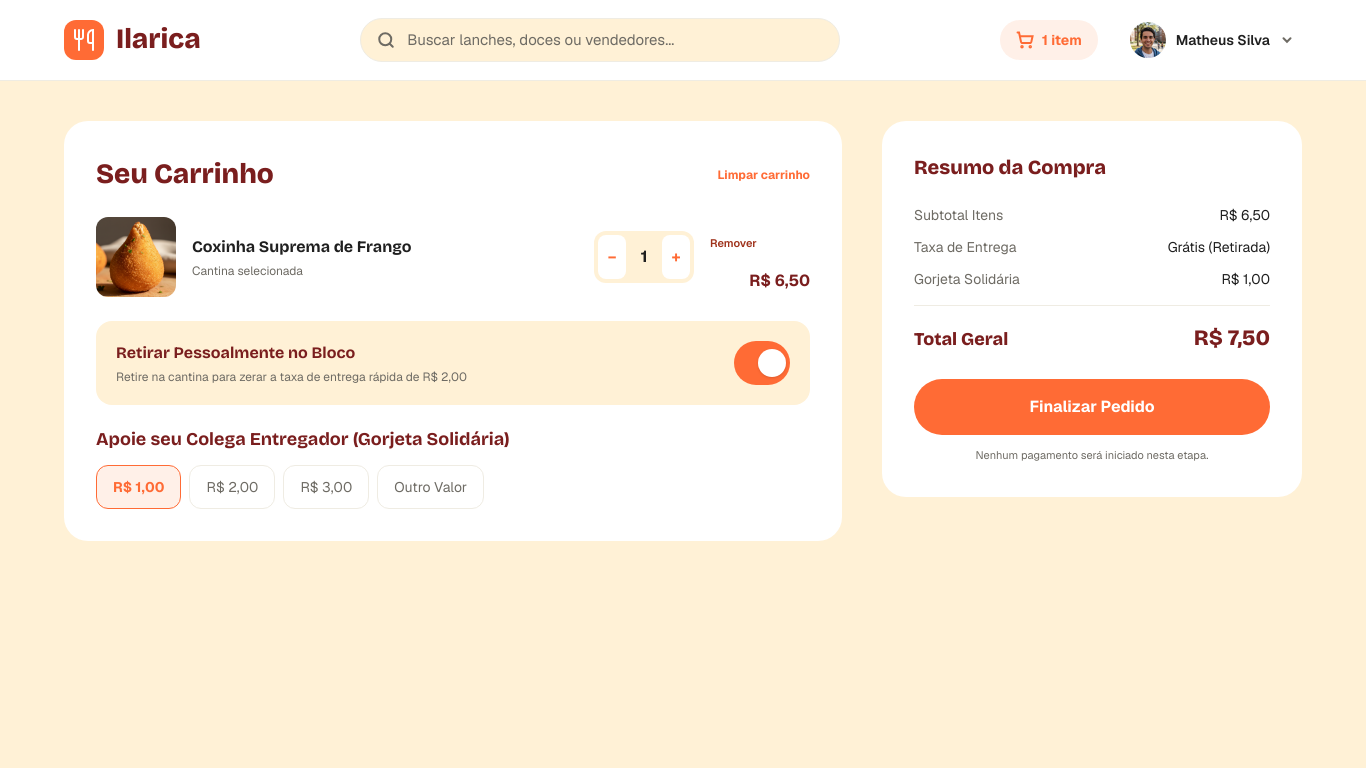
Test: CartPage › clears the cart through an explicit action
Step 1. Click the button "Limpar carrinho" → (764, 175), box [718,153,810,197]
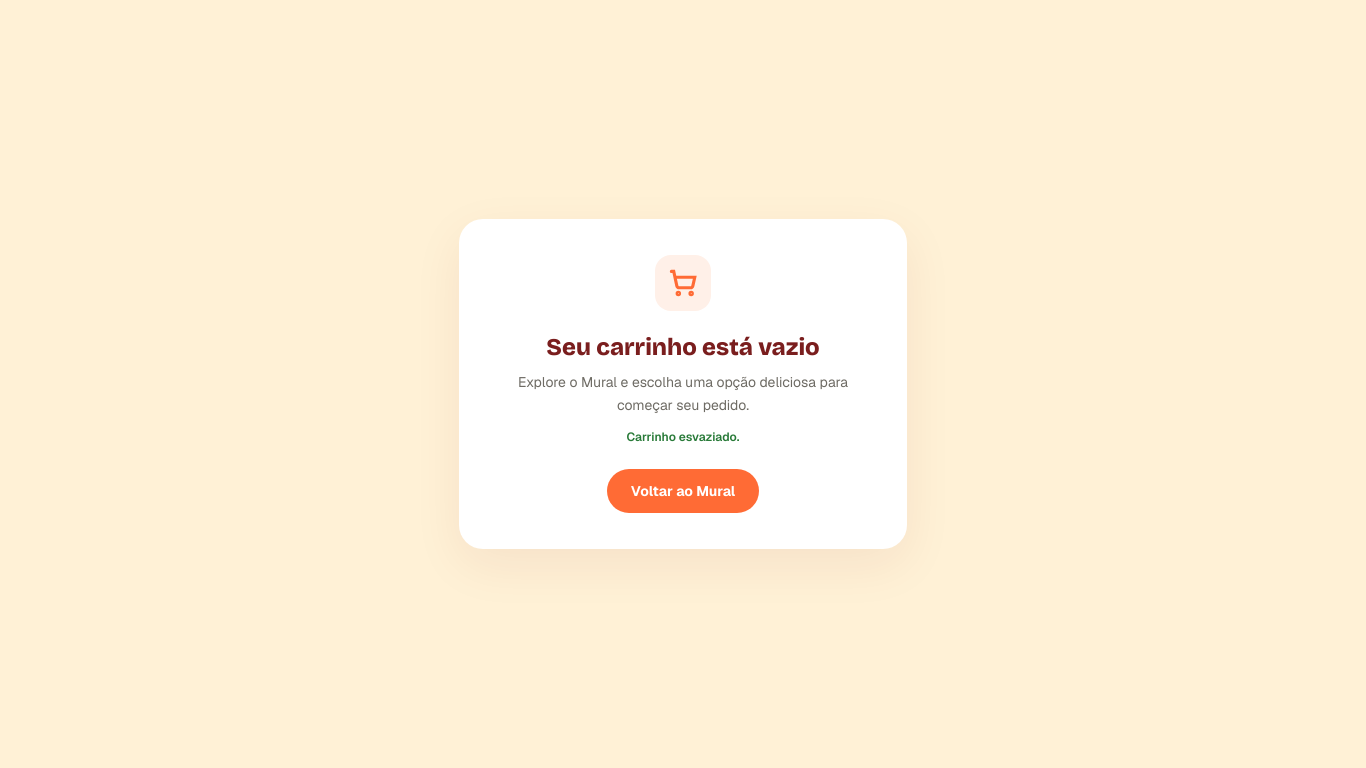
Now the heading "Seu carrinho está vazio" is shown, box [546,333,820,361]
